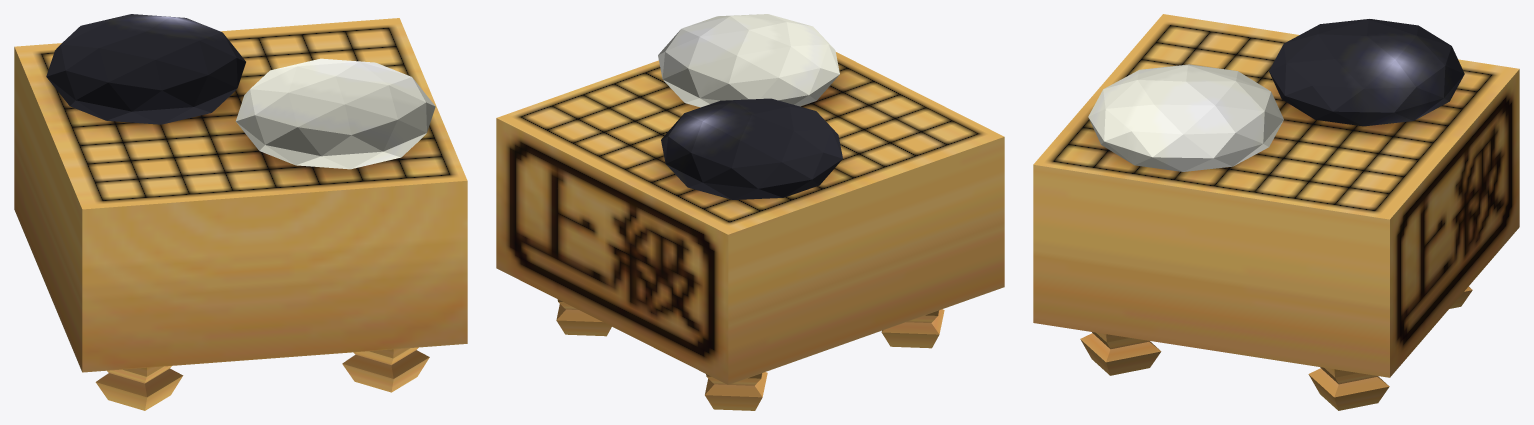
File: icon1.ico.obj
3 views of the same model, side by side, from view 1: azimuth 30°, elevation 25°; view 2: azimuth 150°, elevation 25°; view 3: azimuth 270°, elevation 25° (orthographic). The views are drawn at different scales.
Size of the model in its own units: 3.56 by 2.27 by 3.56.
Materials: 1 (1 with a texture image).
